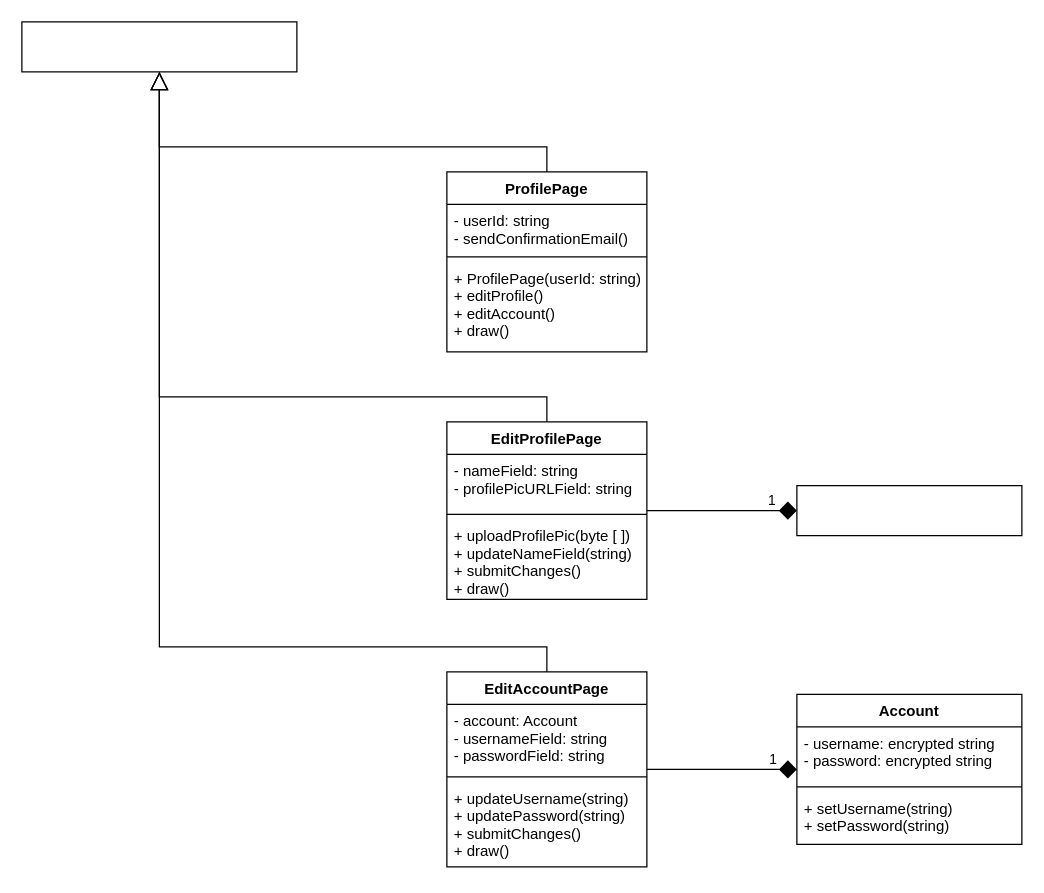
Some shapes in this 1044 by 893 pixel diagram are drawn without their labels. The centre of each missing label's shape, as x and y in pixels:
Page: the point at 159,46
User: the point at 909,510
